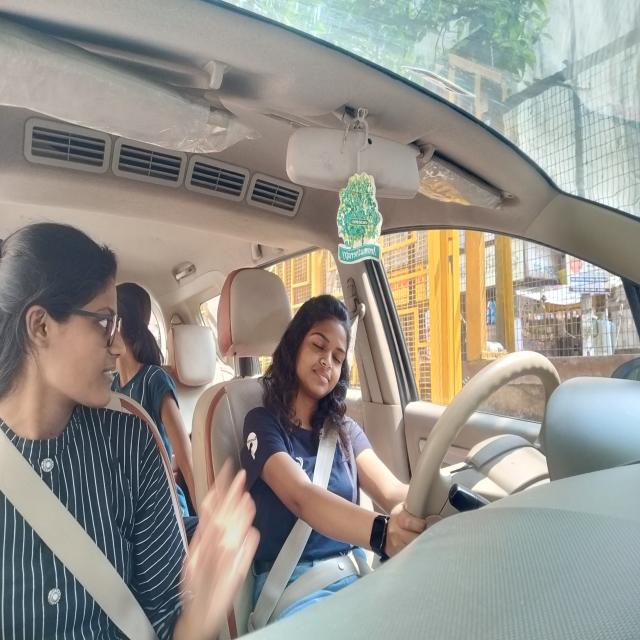drowsy: (284, 290, 351, 420)
person: (5, 224, 129, 414), (116, 275, 158, 366)
